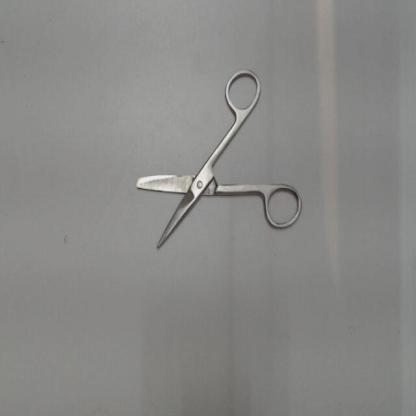Dressing Scissors: (130, 56, 310, 263)
